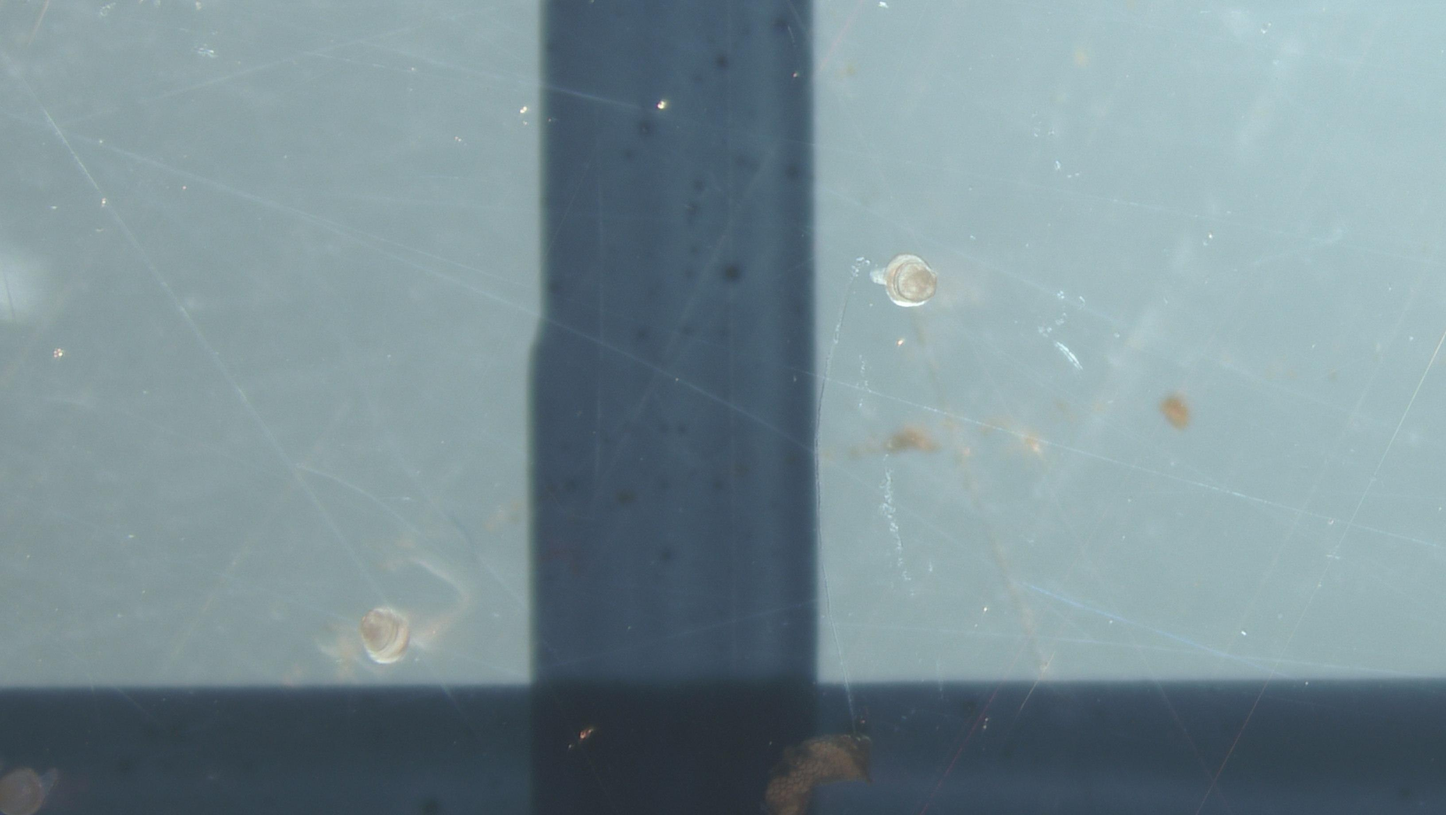dead: (360, 608, 410, 664)
live: (873, 255, 937, 307), (0, 768, 58, 815)
